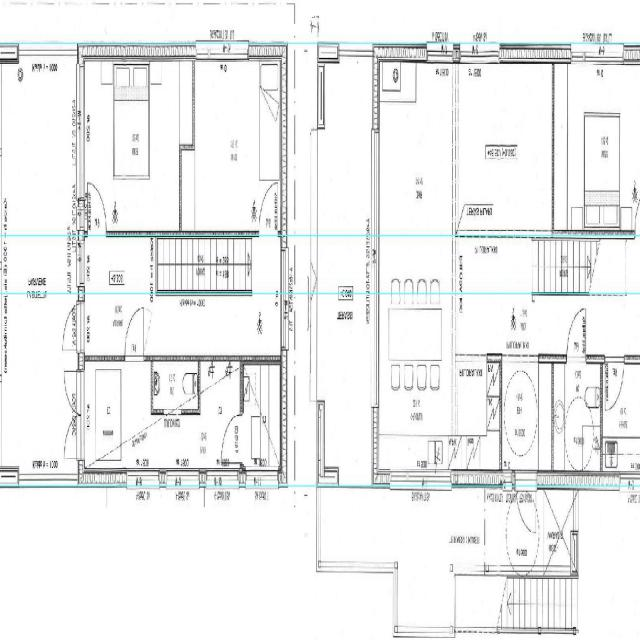door: (515, 468, 537, 541), (58, 302, 84, 351), (566, 303, 586, 362), (87, 179, 107, 236), (220, 414, 243, 463), (60, 414, 84, 460), (258, 181, 278, 236), (60, 370, 84, 414), (605, 355, 624, 410), (125, 308, 143, 361), (635, 182, 640, 236)
